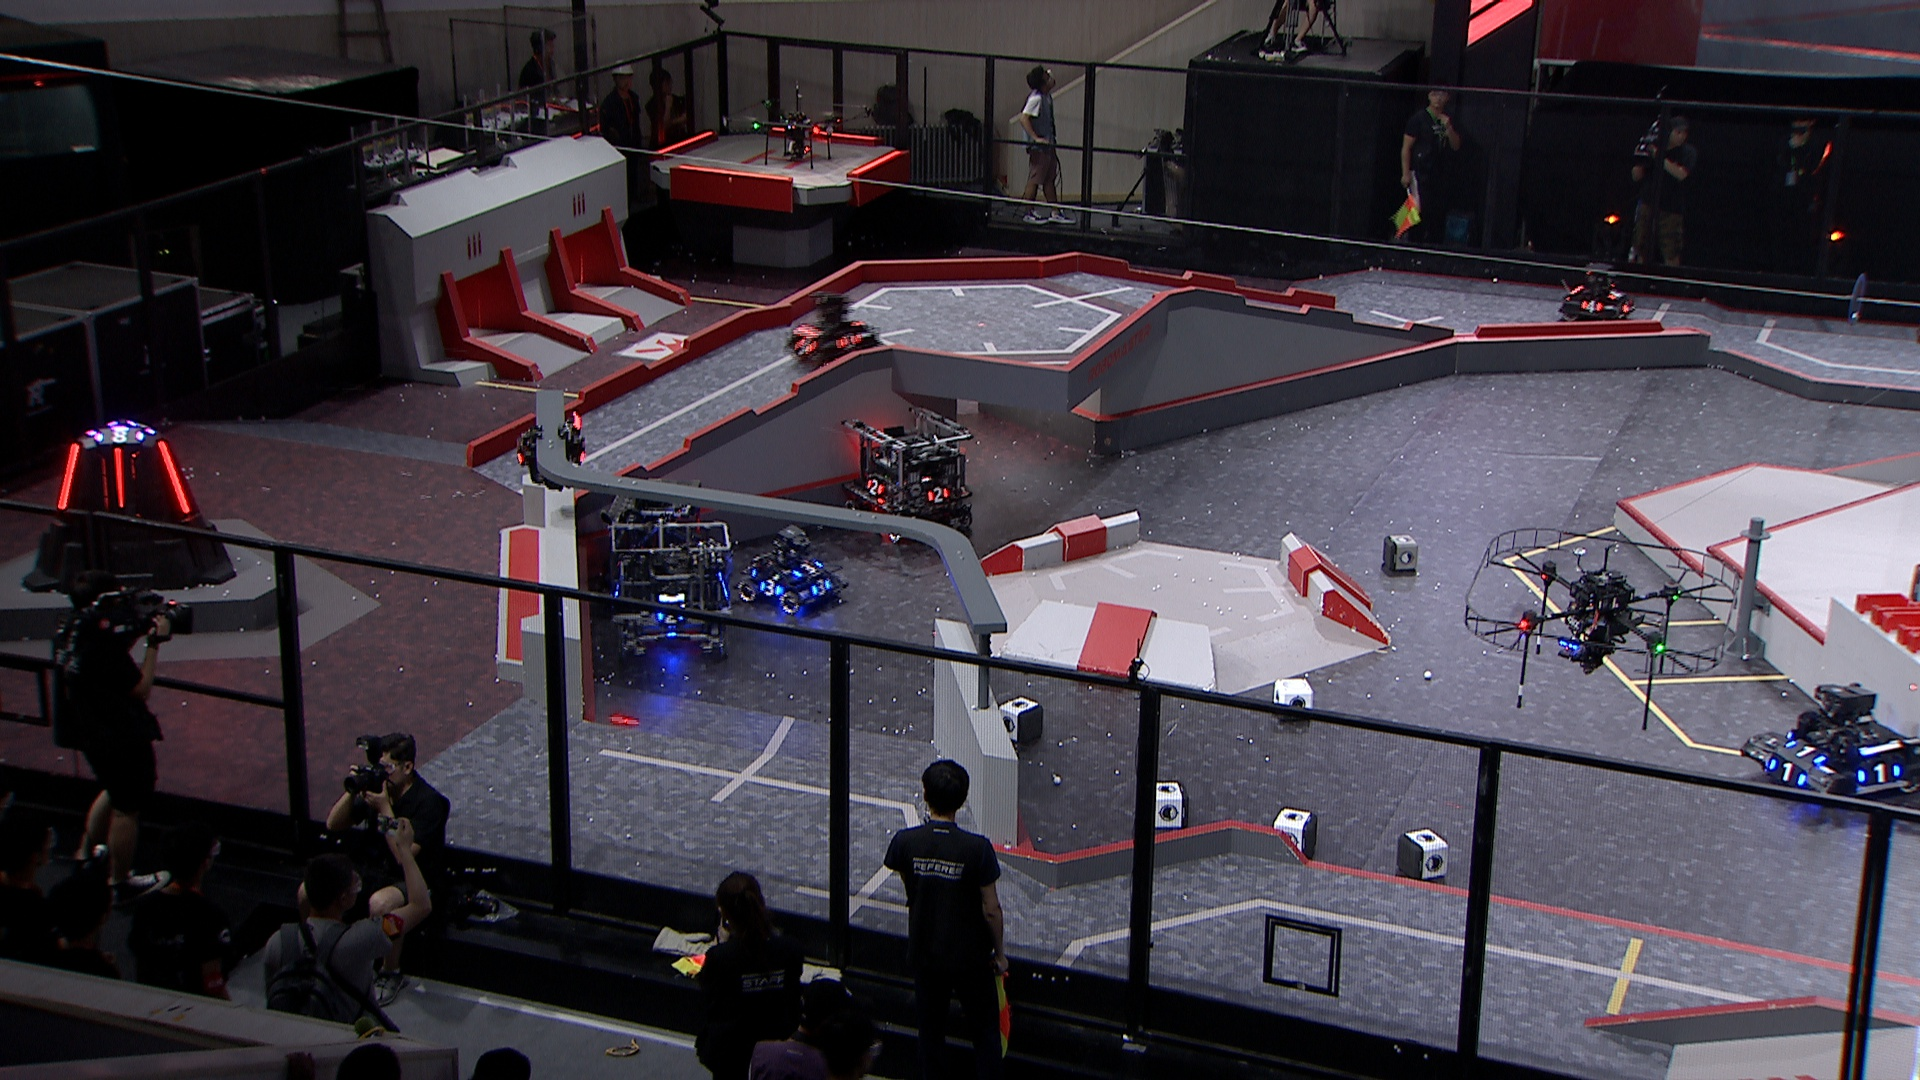armor: (156, 438, 193, 517), (57, 442, 80, 512), (1770, 756, 1804, 787), (109, 447, 127, 508), (1855, 764, 1898, 785), (1787, 738, 1822, 761), (793, 559, 822, 579), (102, 456, 111, 512), (793, 334, 818, 353), (659, 607, 688, 621), (864, 477, 884, 496), (760, 579, 779, 597), (926, 485, 948, 501), (1580, 299, 1604, 314), (841, 328, 862, 342), (1610, 286, 1626, 302), (814, 579, 829, 593)
base: (18, 417, 237, 599)
car: (1742, 680, 1920, 812), (603, 518, 738, 666), (841, 400, 975, 545), (603, 473, 713, 593), (732, 524, 847, 612), (785, 285, 880, 368), (1560, 262, 1636, 327)
ignore: (98, 429, 142, 443)
watcher: (509, 407, 589, 498)
